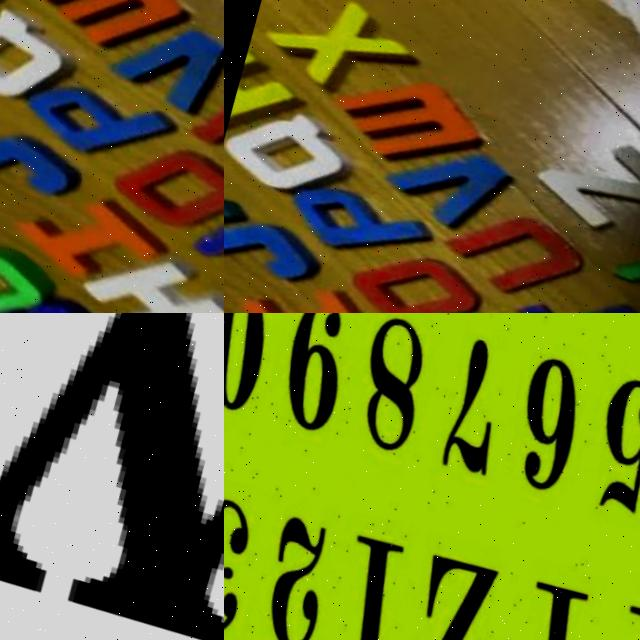0: (224, 313, 309, 449)
1: (292, 517, 436, 640)
2: (224, 503, 363, 640)
3: (224, 477, 283, 640)
5: (547, 352, 640, 544)
6: (476, 334, 619, 516)
7: (393, 315, 546, 514)
8: (313, 313, 459, 485)
9: (232, 313, 386, 472)
B: (0, 275, 119, 313)
C: (0, 224, 57, 313)
H: (64, 231, 224, 313)
I: (2, 171, 166, 304), (224, 262, 385, 313)
J: (224, 198, 334, 297), (0, 111, 84, 221)
N: (178, 182, 224, 313)
O: (89, 128, 224, 249), (332, 233, 478, 313)
P: (8, 59, 169, 179), (277, 169, 434, 278)
Q: (224, 92, 351, 209), (0, 2, 80, 117)
T: (503, 280, 640, 313)
U: (432, 194, 588, 313), (176, 70, 224, 197)
V: (369, 122, 516, 250), (100, 11, 224, 126)
W: (0, 313, 224, 640), (322, 56, 494, 190), (23, 0, 201, 71)
X: (244, 0, 412, 112)
Y: (602, 210, 640, 313)
Z: (513, 120, 640, 257)
